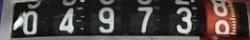digits: (175, 7, 192, 32), (22, 10, 38, 36), (136, 6, 152, 32), (98, 7, 114, 32), (58, 8, 74, 32), (211, 0, 229, 17)
